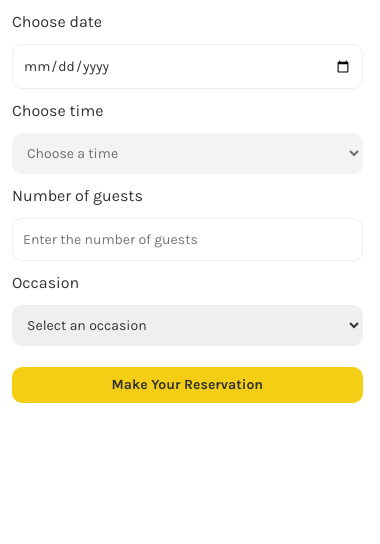
Shows error message when date is not provided
The width and height of the screenshot is (380, 544).
Click the button "Make Your Reservation": (187, 384) x1=12 y1=366 x2=362 y2=402
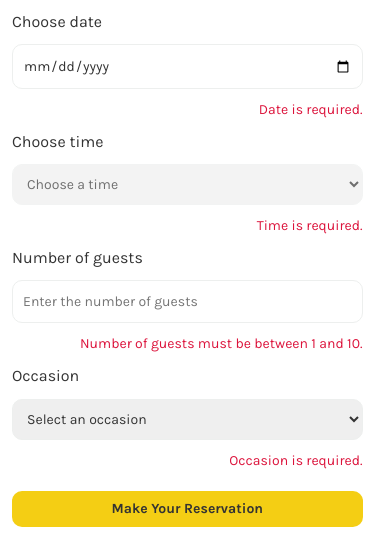
expect the text "Date is required." is shown: met, box x1=259 y1=101 x2=362 y2=118
